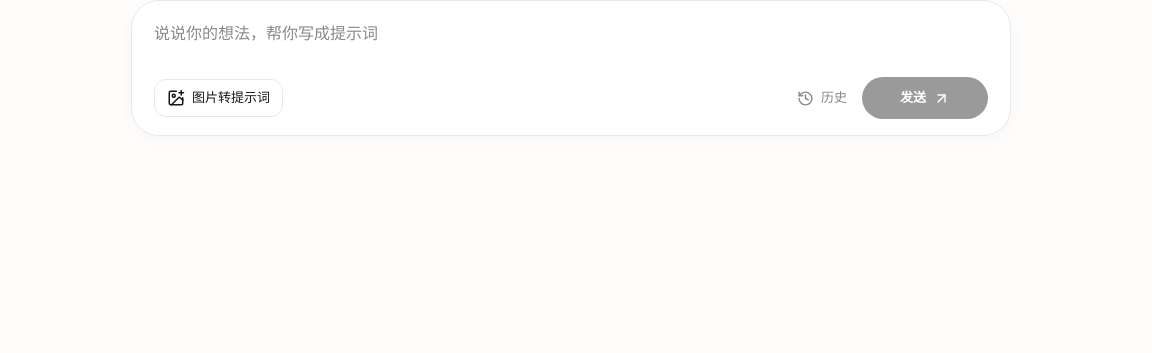
real same-page creative workspace › cancels a delete confirmation and deletes only the explicitly selected conversation
This screenshot has width=1152, height=353.
What coordinates should you click on to do the following:
click the button "历史"
I would click on:
 (822, 98)
Its box is [794, 80, 850, 116].
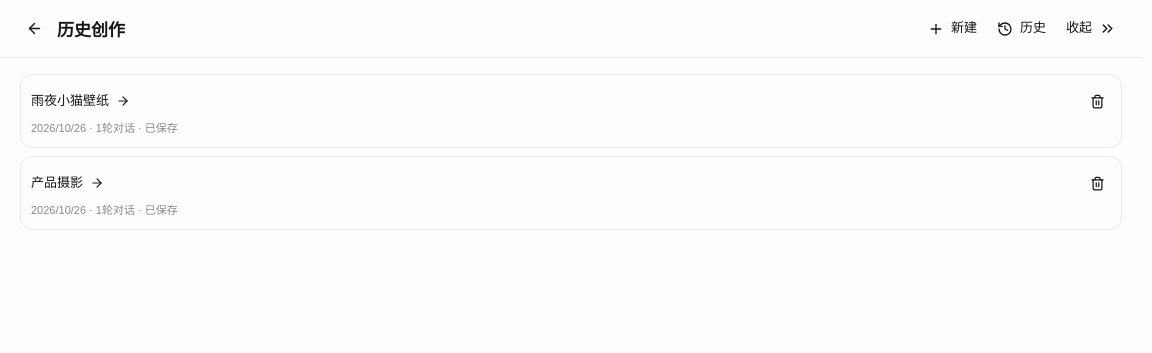
What coordinates should you click on to do the following:
click the 1st button named "删除对话"
I would click on:
 (1098, 101)
Its box is [1084, 83, 1111, 119].
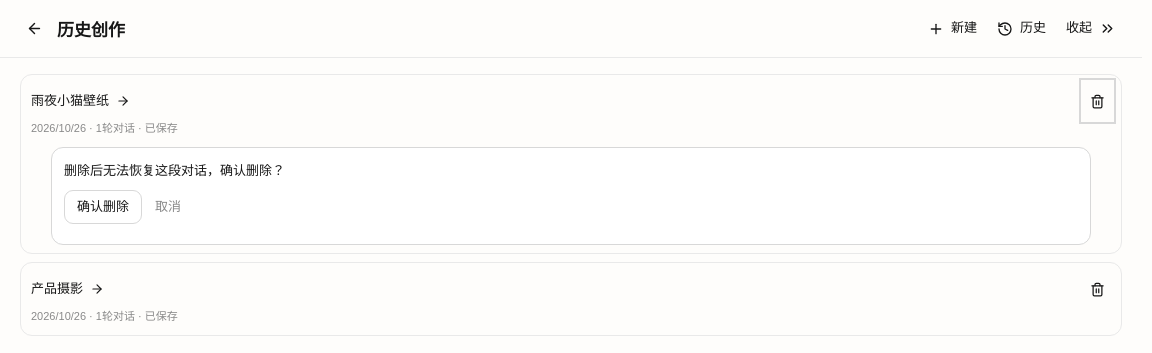
Expected: the message shows "删除后无法恢复", [64, 163, 285, 178]
What coordinates should you click on to do the following:
click the button "取消"
I would click on:
 (168, 207)
Its box is [152, 189, 184, 225].
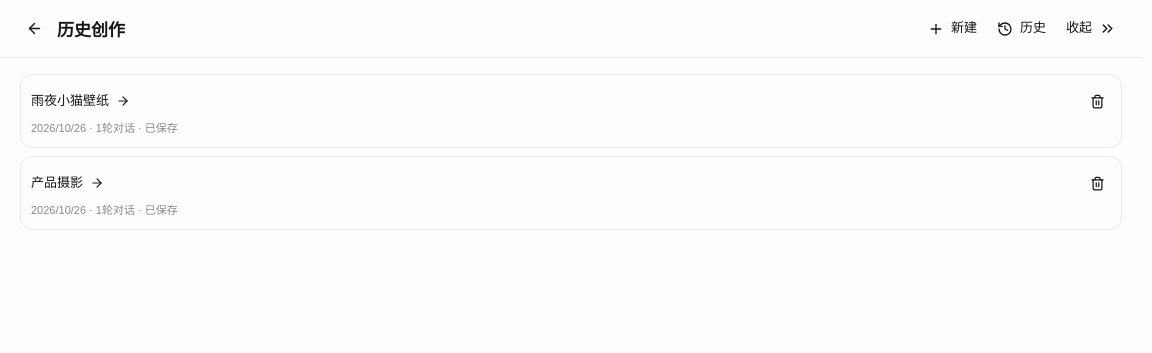
What coordinates should you click on to do the following:
click the 1st button named "删除对话"
I would click on:
 (1098, 101)
Its box is [1084, 83, 1111, 119].
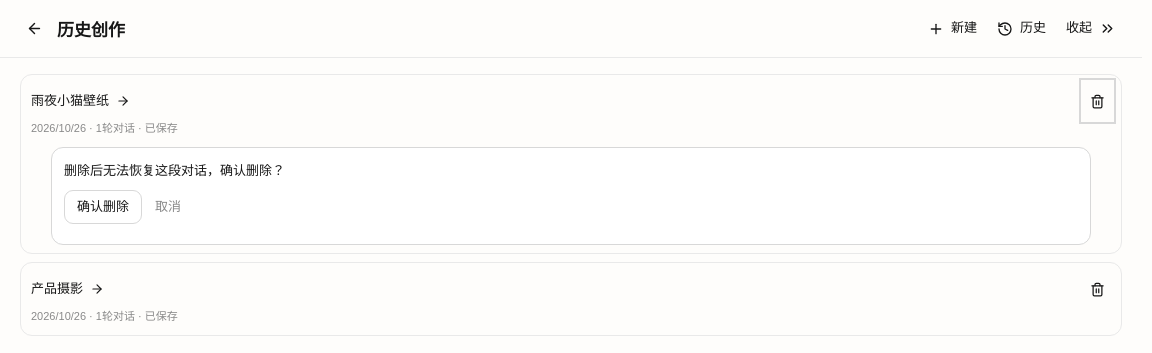
What coordinates should you click on to do the following:
click the button "确认删除"
I would click on:
 (103, 207)
Its box is [64, 190, 142, 224].
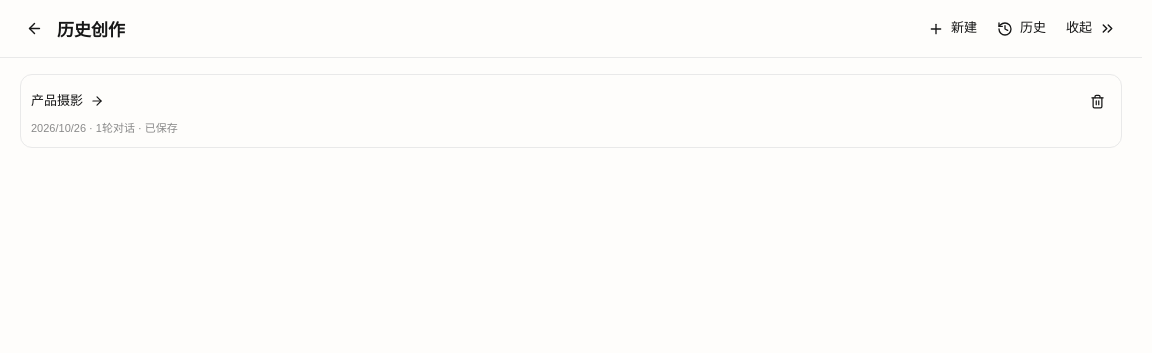
Expected: the button "产品摄影" is shown, [31, 84, 1076, 117]
Expected: the button "雨夜小猫壁纸" is gone
